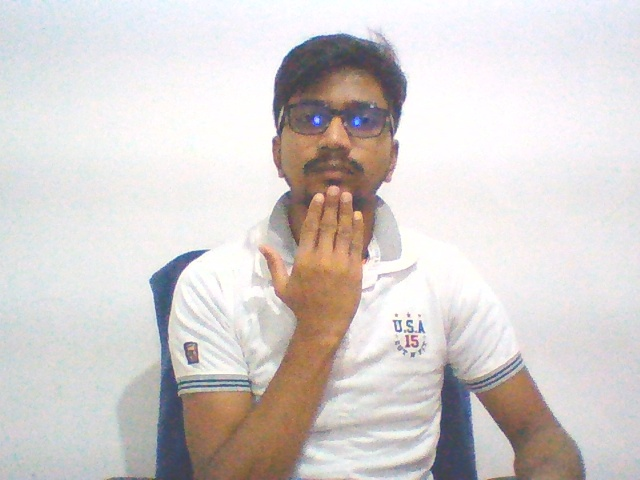mango: (255, 178, 367, 354)
